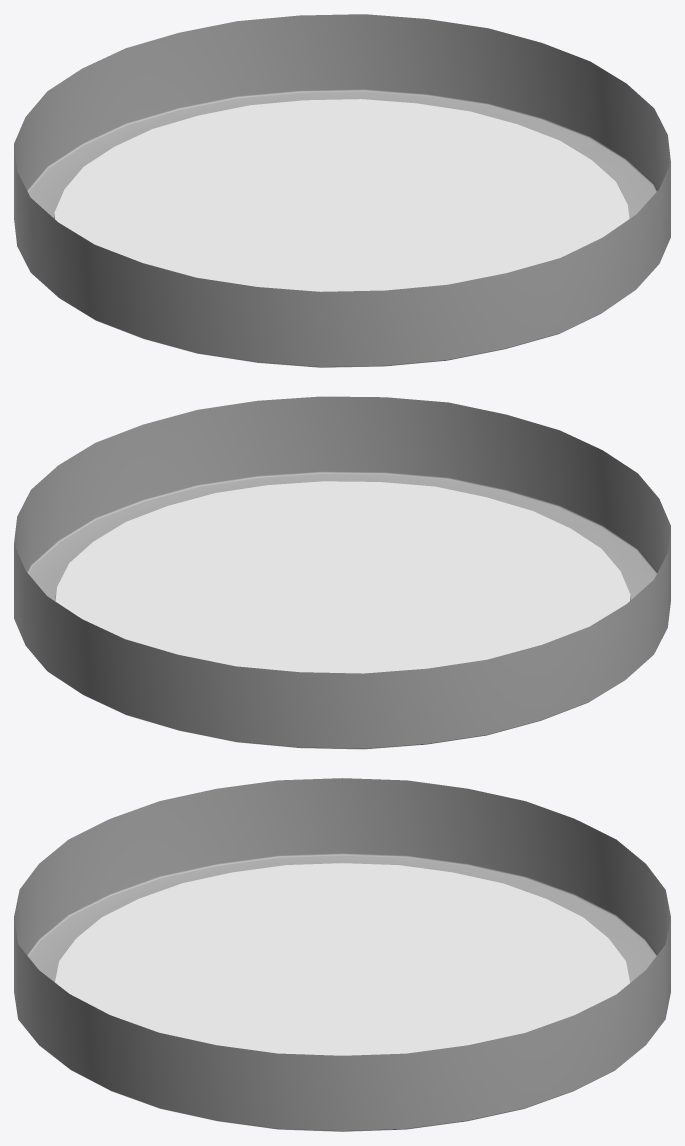
Rendered from celing_light_round.fbx.
The picture shows the model from 3 angles, top to bottom: view 1: azimuth 30°, elevation 25°; view 2: azimuth 150°, elevation 25°; view 3: azimuth 270°, elevation 25°; orthographic projection.
Parts seen in each view (by area): view 1: celing_light_round_parts, celing_light_round_parts1; view 2: celing_light_round_parts, celing_light_round_parts1; view 3: celing_light_round_parts, celing_light_round_parts1.
Part boxes in pixels (<box>): celing_light_round_parts: <box>14,14,670,367</box>; celing_light_round_parts1: <box>54,99,629,291</box>; celing_light_round_parts: <box>14,396,670,749</box>; celing_light_round_parts1: <box>55,481,630,673</box>; celing_light_round_parts: <box>14,778,670,1131</box>; celing_light_round_parts1: <box>55,863,629,1055</box>.
Size of the model in its own units: 38.8 by 5.01 by 38.8.
1 material, 1 textured.
